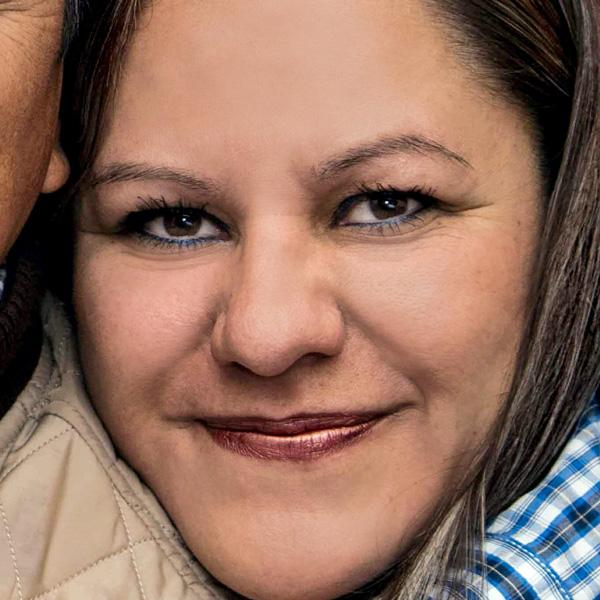Eyes: (98, 186, 241, 268), (317, 169, 462, 246)
